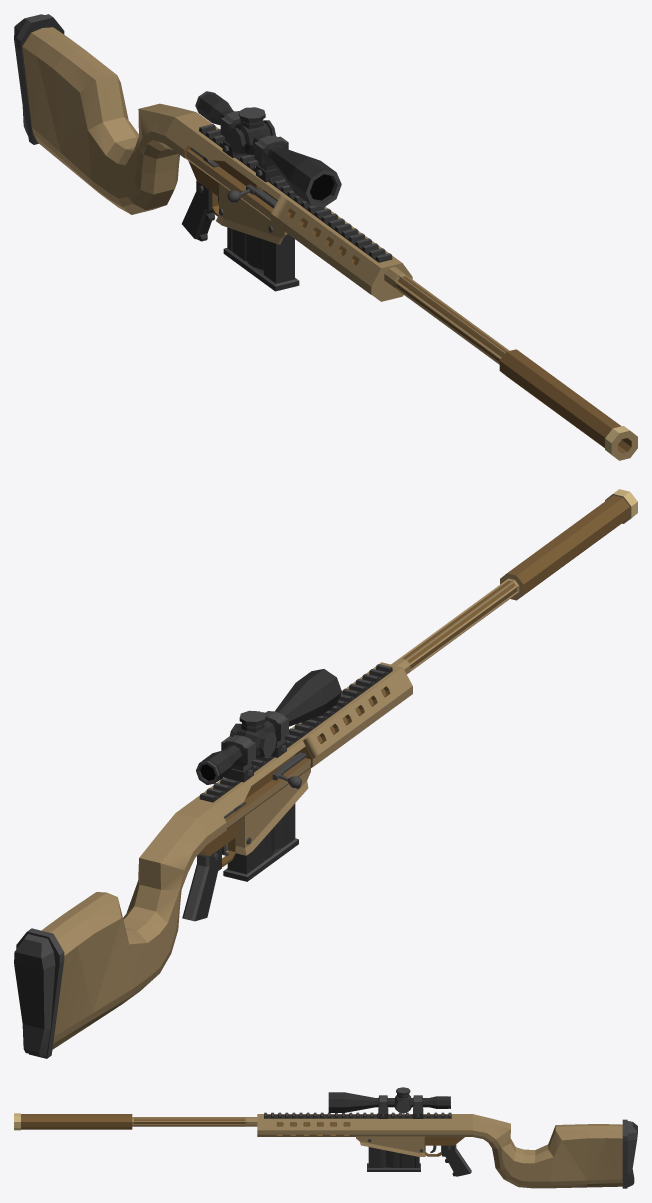
The model's file is Sniper.FBX.
3 views of the same model, one above another, from view 1: azimuth 30°, elevation 25°; view 2: azimuth 150°, elevation 25°; view 3: azimuth 270°, elevation 25° (orthographic). The views are drawn at different scales.
Parts seen in each view (by area): view 1: Sniper; view 2: Sniper; view 3: Sniper.
Part boxes in pixels (x1,y1,x2,y2): Sniper: [14, 14, 637, 460]; Sniper: [14, 489, 637, 1058]; Sniper: [14, 1087, 637, 1188].
Bounding box in the file's own units: 0.0584 × 0.1756 × 1.03.
1 material, 1 textured.
